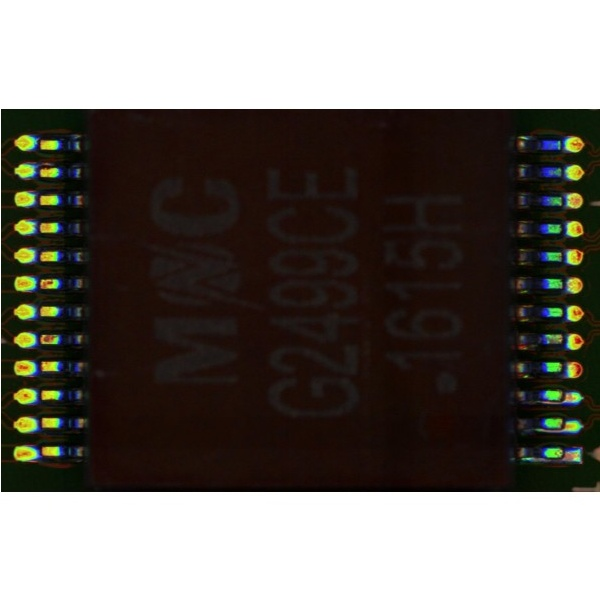Bad_podu: (556, 391, 567, 401), (555, 449, 567, 458), (556, 420, 568, 429)
Bad_qiaojiao: (519, 457, 562, 461), (530, 427, 561, 432), (533, 399, 561, 404)
